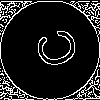C: (25, 25, 81, 75)
